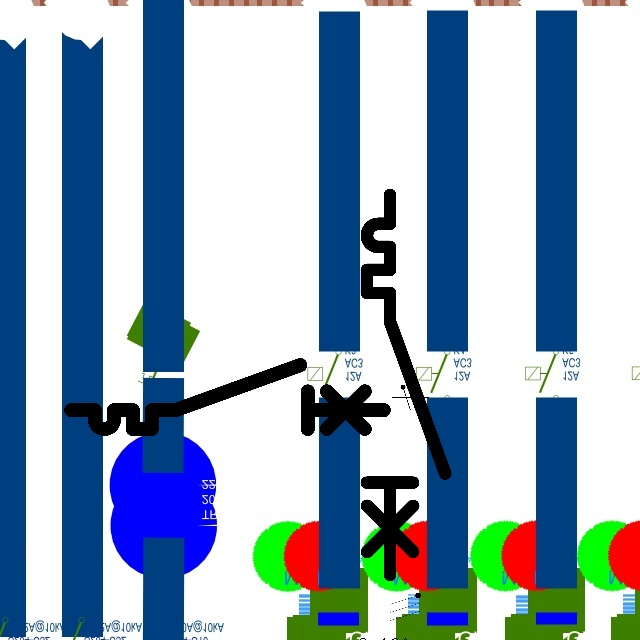interruptor_termomagnetico: (357, 185, 455, 585), (63, 357, 391, 437)
